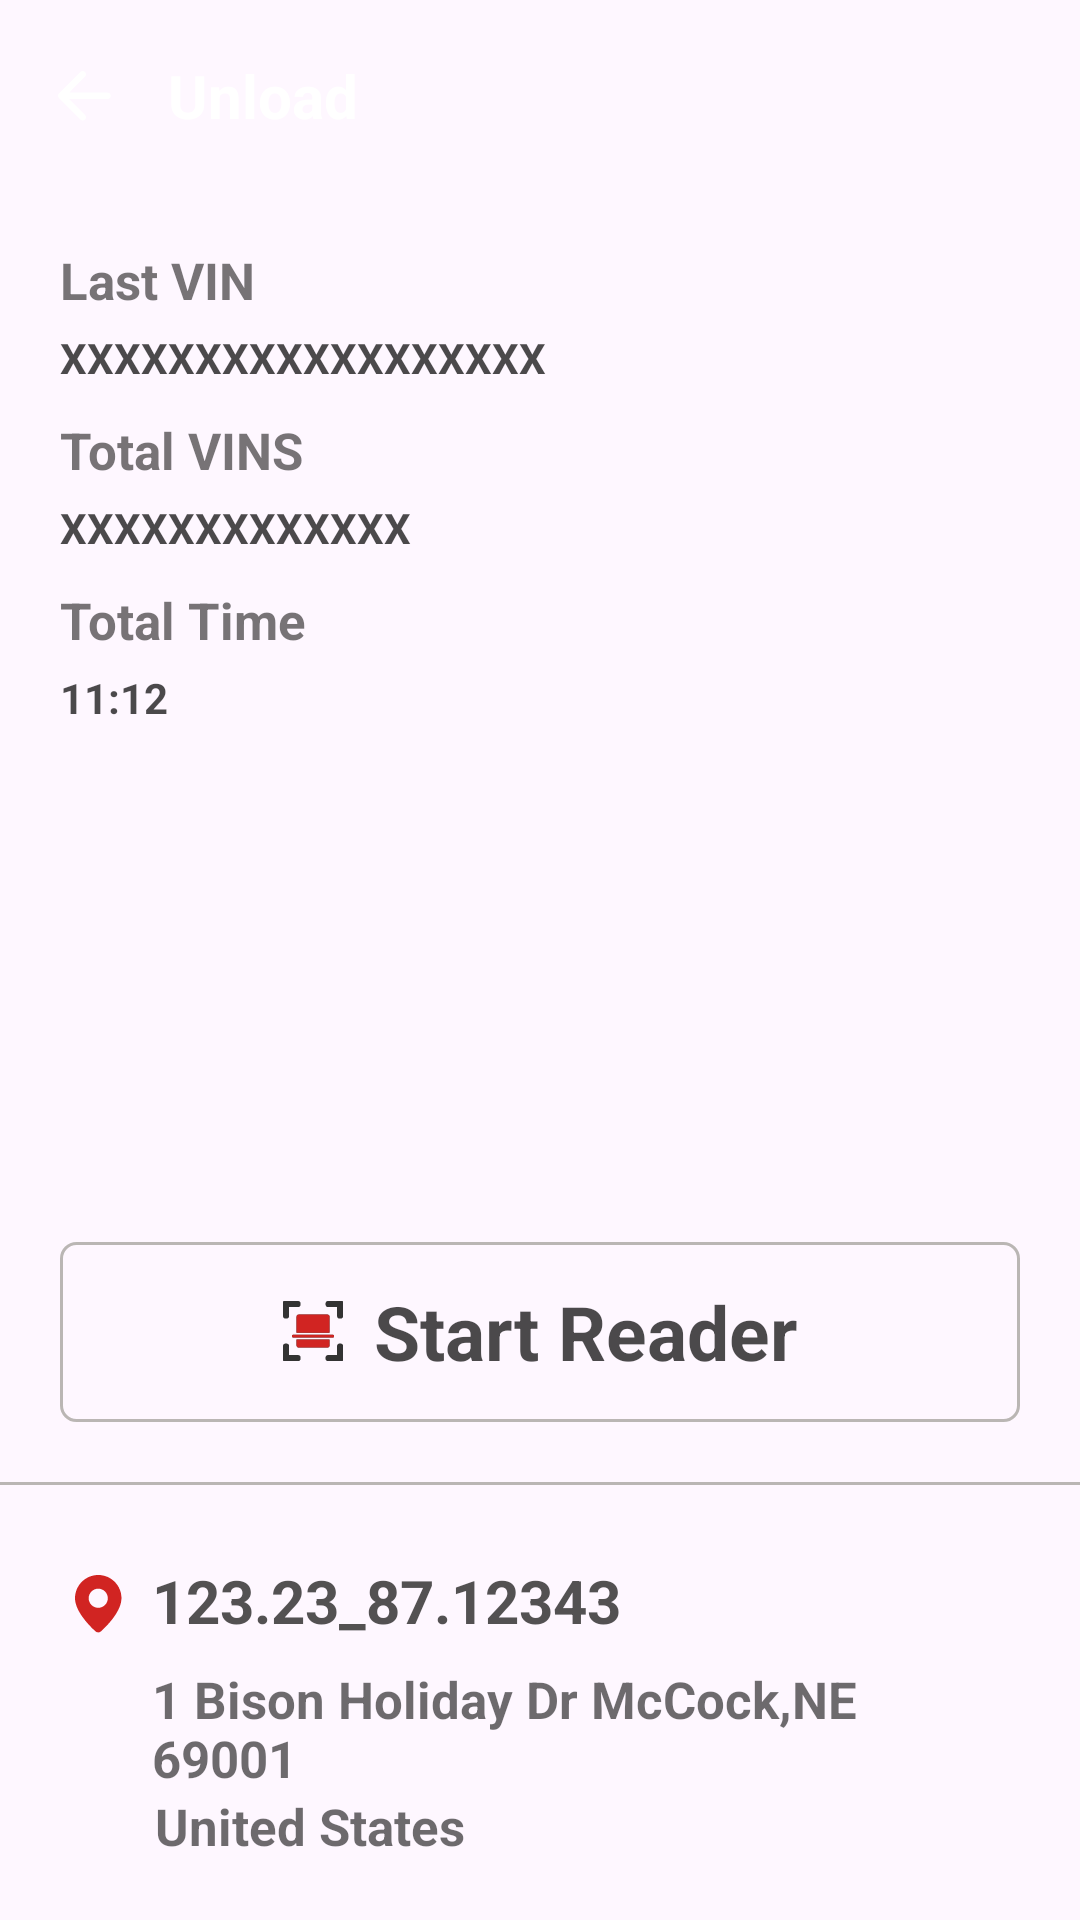

Screen size 1080 × 1920. Icon name, then its box in pixels as (x1, y1, x2, y2):
location: (75, 1575, 122, 1633)
